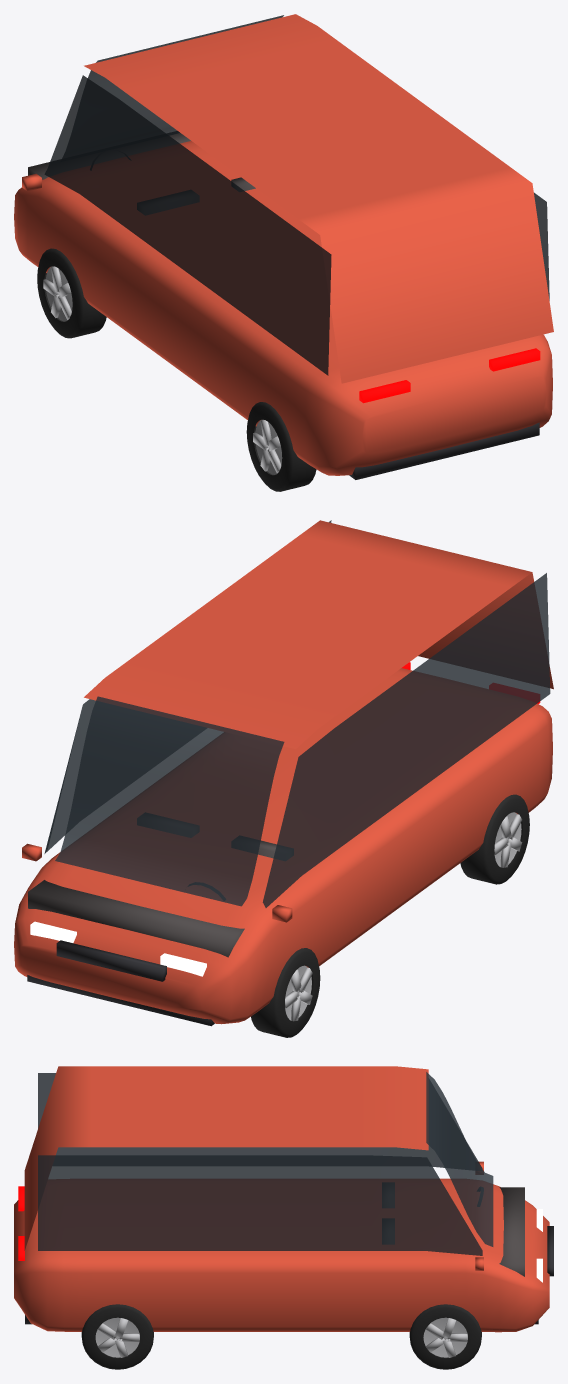
File: tr02_van.glb
The picture shows the model from 3 angles, top to bottom: view 1: azimuth 30°, elevation 25°; view 2: azimuth 150°, elevation 25°; view 3: azimuth 270°, elevation 25°; orthographic projection. The views are drawn at different scales.
Visible parts, largest first — view 1: tr02_van_Cabin, tr02_van_Body, tr02_van_Glass, tr02_van_Wheel_RL, tr02_van_Wheel_FL, tr02_van_Interior, tr02_van_GlassFront, tr02_van_Lights_Rear; view 2: tr02_van_Body, tr02_van_Cabin, tr02_van_Glass, tr02_van_GlassFront, tr02_van_Interior, tr02_van_Wheel_RL, tr02_van_Wheel_FL, tr02_van_Lights_Front; view 3: tr02_van_Body, tr02_van_Glass, tr02_van_Cabin, tr02_van_GlassFront, tr02_van_Wheel_FR, tr02_van_Wheel_RR, tr02_van_Interior.
Part boxes in pixels (left/top/right/bottom): tr02_van_Cabin: left=84, top=14, right=553, bottom=383; tr02_van_Body: left=14, top=141, right=552, bottom=479; tr02_van_Glass: left=44, top=75, right=549, bottom=375; tr02_van_Wheel_RL: left=246, top=402, right=316, bottom=491; tr02_van_Wheel_FL: left=37, top=248, right=106, bottom=338; tr02_van_Interior: left=28, top=131, right=255, bottom=214; tr02_van_GlassFront: left=61, top=15, right=283, bottom=161; tr02_van_Lights_Rear: left=359, top=348, right=540, bottom=403; tr02_van_Body: left=14, top=668, right=552, bottom=1026; tr02_van_Cabin: left=84, top=520, right=553, bottom=749; tr02_van_Glass: left=44, top=520, right=550, bottom=907; tr02_van_GlassFront: left=55, top=696, right=284, bottom=906; tr02_van_Interior: left=28, top=813, right=293, bottom=957; tr02_van_Wheel_RL: left=460, top=794, right=529, bottom=884; tr02_van_Wheel_FL: left=251, top=948, right=320, bottom=1037; tr02_van_Lights_Front: left=30, top=921, right=206, bottom=976; tr02_van_Body: left=14, top=1161, right=553, bottom=1332; tr02_van_Glass: left=38, top=1073, right=482, bottom=1255; tr02_van_Cabin: left=24, top=1066, right=428, bottom=1250; tr02_van_GlassFront: left=426, top=1072, right=493, bottom=1246; tr02_van_Wheel_FR: left=409, top=1304, right=481, bottom=1369; tr02_van_Wheel_RR: left=81, top=1304, right=153, bottom=1369; tr02_van_Interior: left=382, top=1183, right=524, bottom=1276.
Size of what is drawn, in the model's own units: 2.19 by 2.2 by 4.94.
